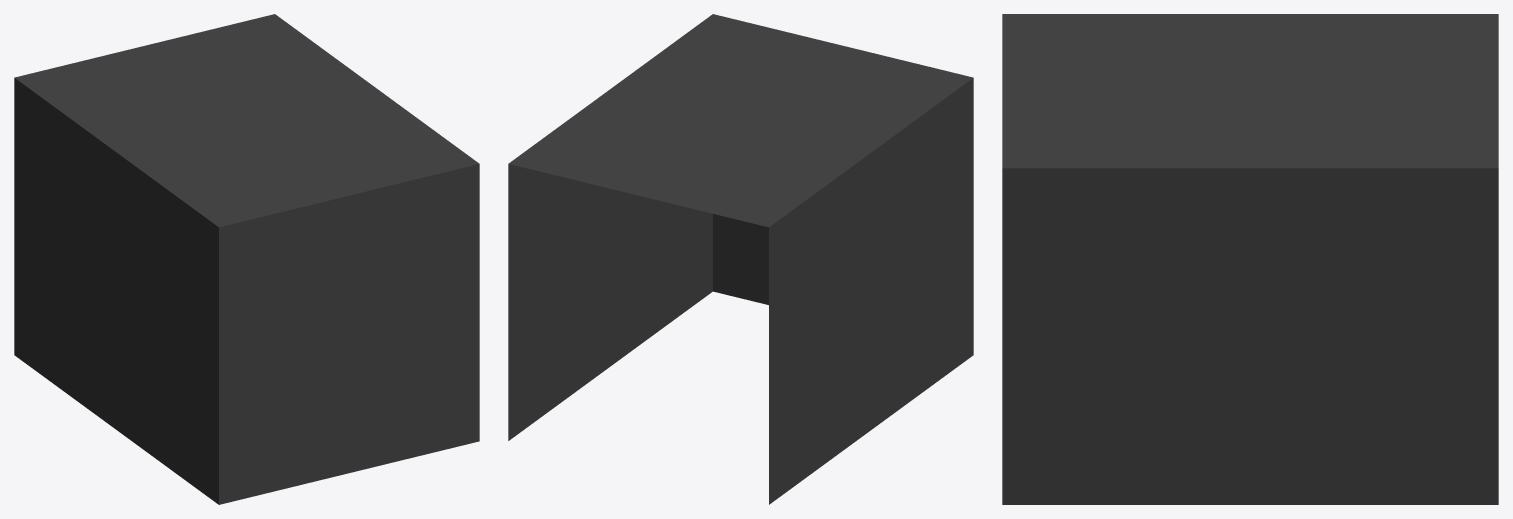
Rendered from Build_3.FBX.
3 views of the same model, side by side, from view 1: azimuth 30°, elevation 25°; view 2: azimuth 150°, elevation 25°; view 3: azimuth 270°, elevation 25° (orthographic). The views are drawn at different scales.
Visible parts, largest first — view 1: Building_03; view 2: Building_03; view 3: Building_03.
Part boxes in pixels (box(x1,y1,x2,y2)): Building_03: box(14, 14, 479, 504); Building_03: box(508, 14, 973, 504); Building_03: box(1002, 14, 1498, 504).
Bounding box in the file's own units: 823 × 838 × 1120.
